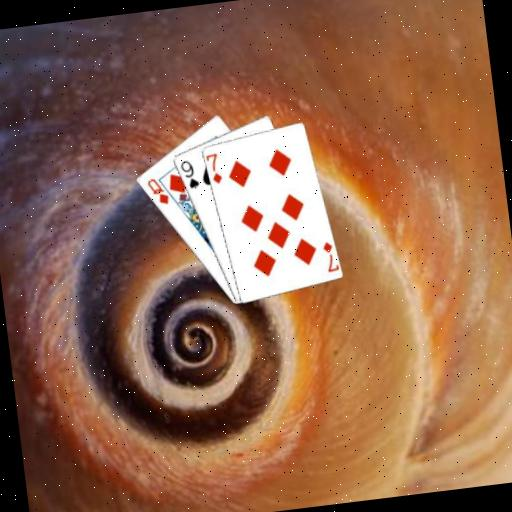7D: (204, 149, 225, 186), (318, 238, 339, 275)
9S: (177, 156, 201, 192)
QD: (143, 174, 171, 208)
